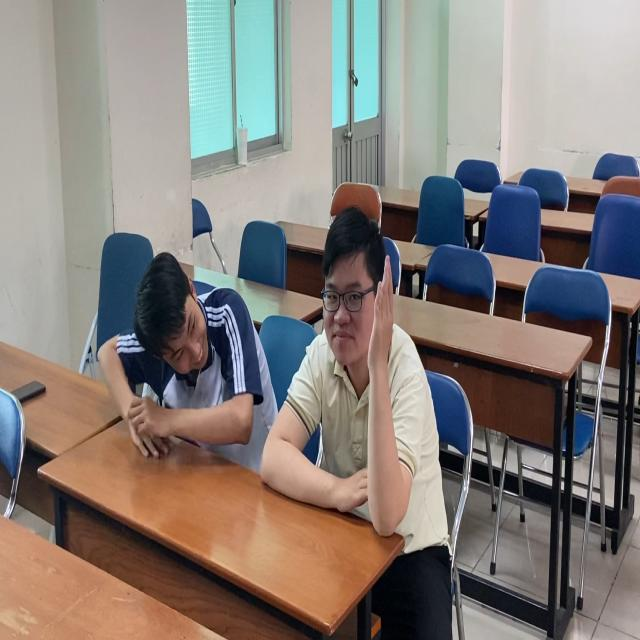raise_hand: (308, 203, 431, 546)
